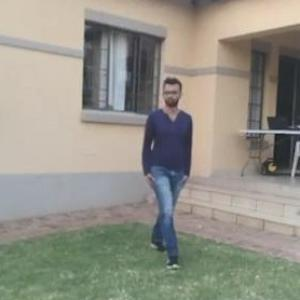follow: (139, 68, 200, 272)
